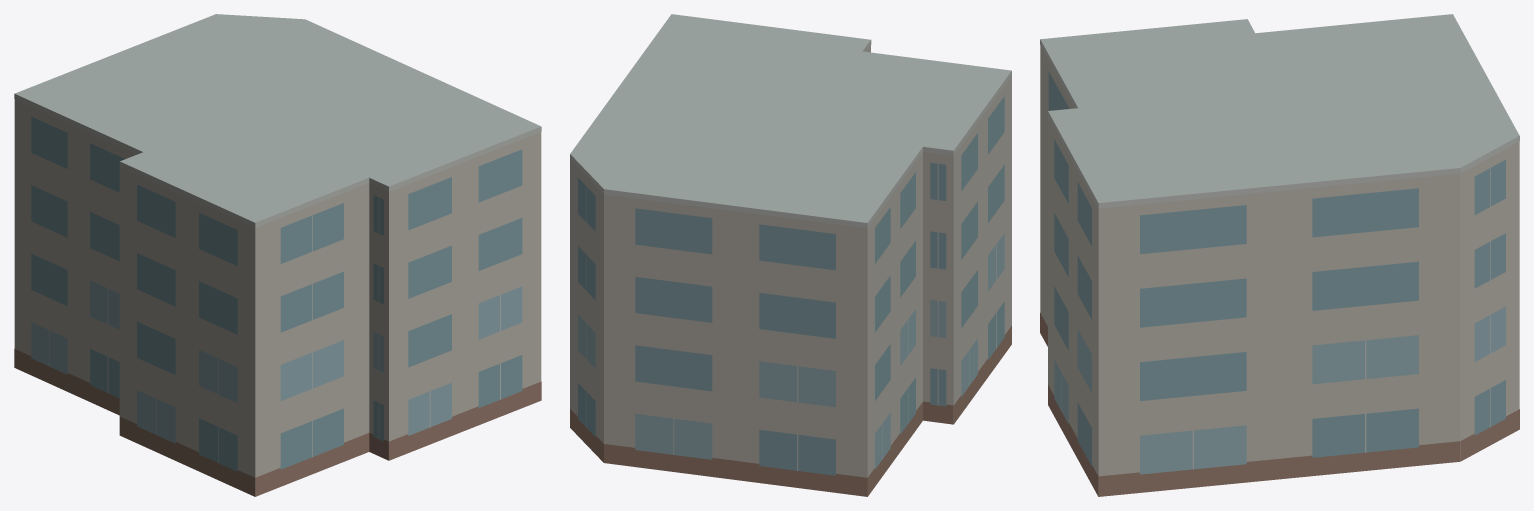
The model's file is survey-upis-32803200.glb.
3 renders of one model, left to right at view 1: azimuth 30°, elevation 25°; view 2: azimuth 150°, elevation 25°; view 3: azimuth 270°, elevation 25°, orthographic. The views are drawn at different scales.
Visible parts, largest first — view 1: survey-upis-32803200.tmp; view 2: survey-upis-32803200.tmp; view 3: survey-upis-32803200.tmp.
Boxes of the visible parts, x1,y1,x2,y2 form: survey-upis-32803200.tmp: [14, 14, 541, 496]; survey-upis-32803200.tmp: [570, 14, 1011, 496]; survey-upis-32803200.tmp: [1040, 14, 1519, 496].
Size of the model in its own units: 17.68 by 12.8 by 18.95.
